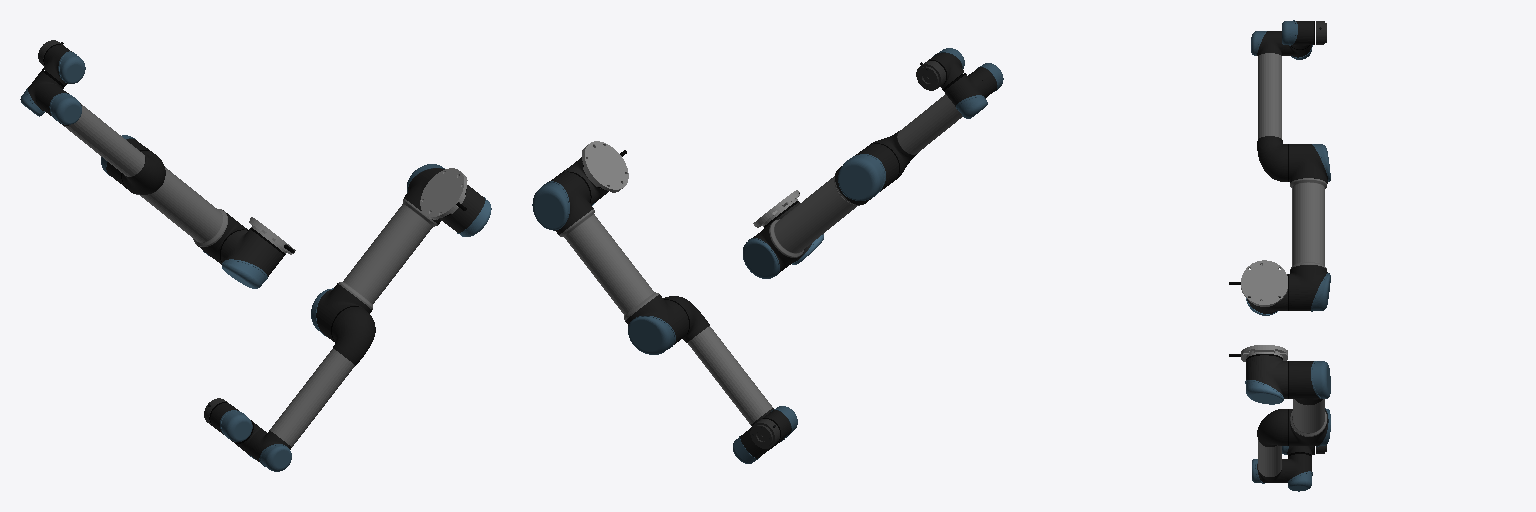
The robot description file, URDF, robot "madar":
<?xml version="1.0"?>
<robot name="madar">

    <!-- BEGIN: T-STRUCTURE -->
    <link name="madar_base_link">
        <visual>
            <geometry>
                <mesh filename="/meshes/estructura_asm.dae"/>
            </geometry>
        </visual>
        <collision>
            <origin xyz="0 0 0.375" rpy="0 0 0"/>
            <geometry>
                <cylinder radius="0.4" length="0.75"/>
            </geometry>
        </collision>
        <collision>
            <origin xyz="0 0 1.395" rpy="0 0 0"/>
            <geometry>
                <box size="0.5 0.08 0.05"/>
            </geometry>
        </collision>
        <collision>
            <origin xyz="0 0 1.056" rpy="0 0 0"/>
            <geometry>
                <box size="0.08 0.08 0.63"/>
            </geometry>
        </collision>
        <collision>
            <origin xyz="0 -0.14 0.916" rpy="0 0 0" />
            <geometry>
                <box size="0.43 0.2 0.33"/>
            </geometry>
        </collision>
    </link>
    <!-- END: T-STRUCTURE -->

    <!-- END: WHEELS -->
    <joint name="motor_1" type="continuous">
      <parent link="madar_base_link"/>
      <child link="wheel_1_link"/>
      <axis xyz="-1 0 0"/>
      <origin rpy="2.0944 0 1.5708" xyz="0 -0.2905 0.1"/>
    </joint>
  
    <link name="wheel_1_link">
      <visual>
        <geometry>
            <mesh filename="/meshes/wheel.dae"/>
        </geometry>
      </visual>
      <collision>
        <geometry>
          <sphere radius="0.10"/>
        </geometry>
      </collision>
      <inertial>
         <mass value="10"/>
         <inertia ixx="0.04" ixy="0" ixz="0" iyy="0.04" iyz="0" izz="0.04"/> <!-- Provisional inertia values -->
       </inertial>
    </link>
  
    <joint name="motor_2" type="continuous">
      <parent link="madar_base_link"/>
      <child link="wheel_2_link"/>
      <axis xyz="-1 0 0"/>
      <origin rpy="0 0 3.66519" xyz="0.25158 0.14525 0.1"/>
    </joint>
  
    <link name="wheel_2_link">
      <visual>
        <geometry>
            <mesh filename="/meshes/wheel.dae"/>
        </geometry>
      </visual>
      <collision>
        <geometry>
          <sphere radius="0.10"/>
        </geometry>
      </collision>
      <inertial>
         <mass value="10"/>
         <inertia ixx="0.04" ixy="0" ixz="0" iyy="0.04" iyz="0" izz="0.04"/>
       </inertial>
    </link>
  
    <joint name="motor_3" type="continuous">
      <parent link="madar_base_link"/>
      <child link="wheel_3_link"/>
      <axis xyz="-1 0 0"/>
      <origin rpy="0 0 5.75959" xyz="-0.25158 0.14525 0.1"/>
    </joint>
  
    <link name="wheel_3_link">
      <visual>
        <geometry>
            <mesh filename="/meshes/wheel.dae"/>
        </geometry>
      </visual>
      <collision>
        <geometry>
          <sphere radius="0.10"/>
        </geometry>
      </collision>
      <inertial>
         <mass value="10"/>
         <inertia ixx="0.04" ixy="0" ixz="0" iyy="0.04" iyz="0" izz="0.04"/>
       </inertial>
    </link>
  
    <!-- END: WHEELS -->

    <!-- BEGIN: ARM RIGHT -->

    <joint name="right_base_link" type="fixed">
        <parent link="madar_base_link"/>
        <child link="right_base_link"/>
        <origin xyz="0.256 0.0 1.389" rpy="3.142 -0.7874 0.000"/>
    </joint>

    <link name="right_base_link">
        <visual>
            <origin xyz="0 0 0" rpy="0 0 3.14159"/>
            <geometry>
                <mesh filename="../UR5/visual/base.dae"/>
            </geometry>
        </visual>
        <collision>
            <origin xyz="0 0 0" rpy="0 0 3.14159"/>
            <geometry>
                <mesh filename="../UR5/collision/base.stl"/>
            </geometry>
        </collision>
        <inertial>
            <mass value="4.0000"/>
            <inertia ixx="0.00443333156" ixy="0" ixz="0" iyy="0.00443333156" iyz="0" izz="0.0072"/>
        </inertial>
    </link>
    
    <joint name="right_shoulder_pan_joint" type="revolute">
        <parent link="right_base_link"/>
        <child link="right_shoulder_link"/>
        <origin xyz="0 0 0.089159" rpy="0 0 0"/>
        <axis xyz="0 0 1"/>
        <limit effort="150" lower="-6.2831853" upper="6.2831853" velocity="3.14159"/>
    </joint>
    
    <link name="right_shoulder_link">
        <visual>
            <origin xyz="0 0 0" rpy="0 0 3.14159"/>
            <geometry>
                <mesh filename="../UR5/visual/shoulder.dae"/>
            </geometry>
        </visual>
        <collision>
            <origin xyz="0 0 0" rpy="0 0 3.14159"/>
            <geometry>
                <mesh filename="../UR5/collision/shoulder.stl"/>
            </geometry>
        </collision>
        <inertial>
            <mass value="3.7000"/>
            <inertia ixx="0.010267495893" ixy="0" ixz="0" iyy="0.010267495893" iyz="0" izz="0.00666"/>
        </inertial>
    </link>
    
    <joint name="right_shoulder_lift_joint" type="revolute">
        <parent link="right_shoulder_link"/>
        <child link="right_upper_arm_link"/>
        <origin xyz="0 0 0" rpy="1.570796327 0 0"/>
        <axis xyz="0 0 1"/>
        <limit effort="150" lower="-6.2831853" upper="6.2831853" velocity="3.14159"/>
    </joint>
    
    <link name="right_upper_arm_link">
        <visual>
            <origin xyz="0 0 0.13585" rpy="1.57079 0 -1.57079"/>
            <geometry>
                <mesh filename="../UR5/visual/upperarm.dae"/>
            </geometry>
        </visual>
        <collision>
            <origin xyz="0 0 0.13585" rpy="1.57079 0 -1.57079"/>
            <geometry>
                <mesh filename="../UR5/collision/upperarm.stl"/>
            </geometry>
        </collision>
        <inertial>
          <mass value="8.3930"/>
          <origin xyz="0 0 0.28"/>
          <inertia ixx="0.22689067591" ixy="0" ixz="0" iyy="0.22689067591" iyz="0" izz="0.0151074"/>
        </inertial>
    </link>
    
    <joint name="right_elbow_joint" type="revolute">
        <parent link="right_upper_arm_link"/>
        <child link="right_fore_arm_link"/>
        <origin xyz="-0.425 0 0" rpy="0 0 0"/>
        <axis xyz="0 0 1"/>
        <limit effort="150" lower="-6.2831853" upper="6.2831853" velocity="3.14159"/>
        <!-- <limit effort="150" lower="-3.14159" upper="3.14159" velocity="3.14159"/> -->
    </joint>
    
    <link name="right_fore_arm_link">
        <visual>
            <origin xyz="0 0 0.0165" rpy="1.57079 0 -1.57079"/>
            <geometry>
                <mesh filename="../UR5/visual/forearm.dae"/>
            </geometry>
        </visual>
        <collision>
            <origin xyz="0 0 0.0165" rpy="1.57079 0 -1.57079"/>
            <geometry>
                <mesh filename="../UR5/collision/forearm.stl"/>
            </geometry>
        </collision>
        <inertial>
            <mass value="2.3300"/>
            <origin xyz="0 0 0.25"/>
            <inertia ixx="0.049443313556" ixy="0" ixz="0" iyy="0.049443313556" iyz="0" izz="0.004095"/>
        </inertial>
    </link>
    
    <joint name="right_wrist_1_joint" type="revolute">
        <parent link="right_fore_arm_link"/>
        <child link="right_wrist_1_link"/>
        <origin xyz="-0.39225 0 0.10915" rpy="0 0 0"/>
        <axis xyz="0 0 1"/>
        <limit effort="28" lower="-6.2831853" upper="6.2831853" velocity="3.14159"/>
      </joint>
    
    <link name="right_wrist_1_link">
        <visual>
            <origin xyz="0 0 -0.093" rpy="1.57079 0 0"/>
            <geometry>
                <mesh filename="../UR5/visual/wrist1.dae"/>
            </geometry>
        </visual>
        <collision>
            <origin xyz="0 0 -0.093" rpy="1.57079 0 0"/>
            <geometry>
                <mesh filename="../UR5/collision/wrist1.stl"/>
            </geometry>
        </collision>
        <inertial>
            <mass value="1.2190"/>
            <inertia ixx="0.111172755531" ixy="0" ixz="0" iyy="0.111172755531" iyz="0" izz="0.21942"/>
        </inertial>
    </link>
    
    <joint name="right_wrist_2_joint" type="revolute">
        <parent link="right_wrist_1_link"/>
        <child link="right_wrist_2_link"/>
        <origin xyz="0 -0.09465 -1.941303950897609e-11" rpy="1.570796327 0 0"/>
        <axis xyz="0 0 1"/>
        <limit effort="28" lower="-6.2831853" upper="6.2831853" velocity="3.14159"/>
    </joint>
    
    <link name="right_wrist_2_link">
        <visual>
            <origin xyz="0 0 -0.095" rpy="0 0 0"/>
            <geometry>
                <mesh filename="../UR5/visual/wrist2.dae"/>
            </geometry>
        </visual>
        <collision>
            <origin xyz="0 0 -0.095" rpy="0 0 0"/>
            <geometry>
                <mesh filename="../UR5/collision/wrist2.stl"/>
            </geometry>
        </collision>
        <inertial>
            <mass value="1.2190"/>
            <inertia ixx="0.111172755531" ixy="0" ixz="0" iyy="0.111172755531" iyz="0" izz="0.21942"/>
        </inertial>
    </link>
    
    <joint name="right_wrist_3_joint" type="revolute">
        <parent link="right_wrist_2_link"/>
        <child link="right_wrist_3_link"/>
        <origin xyz="0 0.0823 -1.688001216681175e-11" rpy="1.570796326589793 3.141592653589793 3.141592653589793"/>
        <axis xyz="0 0 1"/>
        <limit effort="28" lower="-6.2831853" upper="6.2831853" velocity="3.14159"/>
    </joint>
    
    <link name="right_wrist_3_link">
        <visual>
            <origin xyz="0 0 -0.0818" rpy="1.57079 0 0"/>
            <geometry>
                <mesh filename="../UR5/visual/wrist3.dae"/>
            </geometry>
        </visual>
        <collision>
            <origin xyz="0 0 -0.0818" rpy="1.57079 0 0"/>
            <geometry>
                <mesh filename="../UR5/collision/wrist3.stl"/>
            </geometry>
        </collision>
        <inertial>
            <mass value="0.1879"/>
            <inertia ixx="0.0171364731454" ixy="0" ixz="0" iyy="0.0171364731454" iyz="0" izz="0.033822"/>
        </inertial>
    </link>

    <!-- END: ARM RIGHT -->

    <!-- BEGIN: ARM LEFT -->

    <joint name="left_base_link" type="fixed">
        <parent link="madar_base_link"/>
        <child link="left_base_link"/>
        <origin xyz="-0.256 0.0 1.389" rpy="-3.142 0.7874 0.000"/>
    </joint>

    <link name="left_base_link">
        <visual>
            <origin xyz="0 0 0" rpy="0 0 3.14159"/>
            <geometry>
                <mesh filename="../UR5/visual/base.dae"/>
            </geometry>
        </visual>
        <collision>
            <origin xyz="0 0 0" rpy="0 0 3.14159"/>
            <geometry>
                <mesh filename="../UR5/collision/base.stl"/>
            </geometry>
        </collision>
        <inertial>
            <mass value="4.0000"/>
            <inertia ixx="0.00443333156" ixy="0" ixz="0" iyy="0.00443333156" iyz="0" izz="0.0072"/>
        </inertial>
    </link>
    
    <joint name="left_shoulder_pan_joint" type="revolute">
        <parent link="left_base_link"/>
        <child link="left_shoulder_link"/>
        <origin xyz="0 0 0.089159" rpy="0 0 0"/>
        <axis xyz="0 0 1"/>
        <limit effort="150" lower="-6.2831853" upper="6.2831853" velocity="3.14159"/>
    </joint>
    
    <link name="left_shoulder_link">
        <visual>
            <origin xyz="0 0 0" rpy="0 0 3.14159"/>
            <geometry>
                <mesh filename="../UR5/visual/shoulder.dae"/>
            </geometry>
        </visual>
        <collision>
            <origin xyz="0 0 0" rpy="0 0 3.14159"/>
            <geometry>
                <mesh filename="../UR5/collision/shoulder.stl"/>
            </geometry>
        </collision>
        <inertial>
            <mass value="3.7000"/>
            <inertia ixx="0.010267495893" ixy="0" ixz="0" iyy="0.010267495893" iyz="0" izz="0.00666"/>
        </inertial>
    </link>
    
    <joint name="left_shoulder_lift_joint" type="revolute">
        <parent link="left_shoulder_link"/>
        <child link="left_upper_arm_link"/>
        <origin xyz="0 0 0" rpy="1.570796327 0 0"/>
        <axis xyz="0 0 1"/>
        <limit effort="150" lower="-6.2831853" upper="6.2831853" velocity="3.14159"/>
    </joint>
    
    <link name="left_upper_arm_link">
        <visual>
            <origin xyz="0 0 0.13585" rpy="1.57079 0 -1.57079"/>
            <geometry>
                <mesh filename="../UR5/visual/upperarm.dae"/>
            </geometry>
        </visual>
        <collision>
            <origin xyz="0 0 0.13585" rpy="1.57079 0 -1.57079"/>
            <geometry>
                <mesh filename="../UR5/collision/upperarm.stl"/>
            </geometry>
        </collision>
        <inertial>
          <mass value="8.3930"/>
          <origin xyz="0 0 0.28"/>
          <inertia ixx="0.22689067591" ixy="0" ixz="0" iyy="0.22689067591" iyz="0" izz="0.0151074"/>
        </inertial>
    </link>
    
    <joint name="left_elbow_joint" type="revolute">
        <parent link="left_upper_arm_link"/>
        <child link="left_fore_arm_link"/>
        <origin xyz="-0.425 0 0" rpy="0 0 0"/>
        <axis xyz="0 0 1"/>
        <limit effort="150" lower="-6.2831853" upper="6.2831853" velocity="3.14159"/>
    </joint>
    
    <link name="left_fore_arm_link">
        <visual>
            <origin xyz="0 0 0.0165" rpy="1.57079 0 -1.57079"/>
            <geometry>
                <mesh filename="../UR5/visual/forearm.dae"/>
            </geometry>
        </visual>
        <collision>
            <origin xyz="0 0 0.0165" rpy="1.57079 0 -1.57079"/>
            <geometry>
                <mesh filename="../UR5/collision/forearm.stl"/>
            </geometry>
        </collision>
        <inertial>
            <mass value="2.3300"/>
            <origin xyz="0 0 0.25"/>
            <inertia ixx="0.049443313556" ixy="0" ixz="0" iyy="0.049443313556" iyz="0" izz="0.004095"/>
        </inertial>
    </link>
    
    <joint name="left_wrist_1_joint" type="revolute">
        <parent link="left_fore_arm_link"/>
        <child link="left_wrist_1_link"/>
        <origin xyz="-0.39225 0 0.10915" rpy="0 0 0"/>
        <axis xyz="0 0 1"/>
        <limit effort="28" lower="-6.2831853" upper="6.2831853" velocity="3.14159"/>
      </joint>
    
    <link name="left_wrist_1_link">
        <visual>
            <origin xyz="0 0 -0.093" rpy="1.57079 0 0"/>
            <geometry>
                <mesh filename="../UR5/visual/wrist1.dae"/>
            </geometry>
        </visual>
        <collision>
            <origin xyz="0 0 -0.093" rpy="1.57079 0 0"/>
            <geometry>
                <mesh filename="../UR5/collision/wrist1.stl"/>
            </geometry>
        </collision>
        <inertial>
            <mass value="1.2190"/>
            <inertia ixx="0.111172755531" ixy="0" ixz="0" iyy="0.111172755531" iyz="0" izz="0.21942"/>
        </inertial>
    </link>
    
    <joint name="left_wrist_2_joint" type="revolute">
        <parent link="left_wrist_1_link"/>
        <child link="left_wrist_2_link"/>
        <origin xyz="0 -0.09465 -1.941303950897609e-11" rpy="1.570796327 0 0"/>
        <axis xyz="0 0 1"/>
        <limit effort="28" lower="-6.2831853" upper="6.2831853" velocity="3.14159"/>
    </joint>
    
    <link name="left_wrist_2_link">
        <visual>
            <origin xyz="0 0 -0.095" rpy="0 0 0"/>
            <geometry>
                <mesh filename="../UR5/visual/wrist2.dae"/>
            </geometry>
        </visual>
        <collision>
            <origin xyz="0 0 -0.095" rpy="0 0 0"/>
            <geometry>
                <mesh filename="../UR5/collision/wrist2.stl"/>
            </geometry>
        </collision>
        <inertial>
            <mass value="1.2190"/>
            <inertia ixx="0.111172755531" ixy="0" ixz="0" iyy="0.111172755531" iyz="0" izz="0.21942"/>
        </inertial>
    </link>
    
    <joint name="left_wrist_3_joint" type="revolute">
        <parent link="left_wrist_2_link"/>
        <child link="left_wrist_3_link"/>
        <origin xyz="0 0.0823 -1.688001216681175e-11" rpy="1.570796326589793 3.141592653589793 3.141592653589793"/>
        <axis xyz="0 0 1"/>
        <limit effort="28" lower="-6.2831853" upper="6.2831853" velocity="3.14159"/>
    </joint>
    
    <link name="left_wrist_3_link">
        <visual>
            <origin xyz="0 0 -0.0818" rpy="1.57079 0 0"/>
            <geometry>
                <mesh filename="../UR5/visual/wrist3.dae"/>
            </geometry>
        </visual>
        <collision>
            <origin xyz="0 0 -0.0818" rpy="1.57079 0 0"/>
            <geometry>
                <mesh filename="../UR5/collision/wrist3.stl"/>
            </geometry>
        </collision>
        <inertial>
            <mass value="0.1879"/>
            <inertia ixx="0.0171364731454" ixy="0" ixz="0" iyy="0.0171364731454" iyz="0" izz="0.033822"/>
        </inertial>
    </link>

    <!-- END: ARM LEFT -->

    <!-- BEGIN: HAND RIGHT -->

    <!-- END: HAND RIGHT -->

    <!-- BEGIN: HAND LEFT -->

    <!-- END: HAND LEFT -->	

</robot>

--- What the picture shows (computed from the rendered views, not written in the file) ---
The picture shows the robot from 3 angles, left to right: view 1: azimuth 30°, elevation 25°; view 2: azimuth 150°, elevation 25°; view 3: azimuth 270°, elevation 25°; orthographic projection.
Robot: madar — 18 links, 17 joints (12 revolute, 3 continuous, 2 fixed); root link madar_base_link; default pose: every joint at zero.
Links seen in each view (by area): view 1: right_upper_arm_link, right_fore_arm_link, left_fore_arm_link, left_upper_arm_link, left_shoulder_link, right_base_link, right_shoulder_link, left_wrist_2_link, right_wrist_2_link, left_wrist_1_link; view 2: right_upper_arm_link, left_upper_arm_link, right_fore_arm_link, left_fore_arm_link, right_base_link, left_wrist_1_link, left_wrist_2_link, left_wrist_3_link, right_wrist_3_link, right_wrist_1_link, right_wrist_2_link; view 3: left_upper_arm_link, left_fore_arm_link, right_upper_arm_link, right_fore_arm_link, right_shoulder_link, left_base_link, right_wrist_1_link, left_wrist_2_link.
Boxes of the visible links, <box> form: right_upper_arm_link: <box>311,164,444,342</box>; right_fore_arm_link: <box>249,307,375,471</box>; left_fore_arm_link: <box>39,85,165,194</box>; left_upper_arm_link: <box>101,135,248,264</box>; left_shoulder_link: <box>221,228,285,288</box>; right_base_link: <box>420,168,467,219</box>; right_shoulder_link: <box>439,185,491,236</box>; left_wrist_2_link: <box>43,44,85,85</box>; right_wrist_2_link: <box>209,402,252,442</box>; left_wrist_1_link: <box>20,69,64,116</box>; right_upper_arm_link: <box>532,172,689,354</box>; left_upper_arm_link: <box>743,143,899,278</box>; right_fore_arm_link: <box>663,296,789,448</box>; left_fore_arm_link: <box>870,63,1003,179</box>; right_base_link: <box>582,141,628,192</box>; left_wrist_1_link: <box>943,73,987,118</box>; left_wrist_2_link: <box>928,48,964,89</box>; left_wrist_3_link: <box>916,61,945,90</box>; right_wrist_3_link: <box>750,419,779,448</box>; right_wrist_1_link: <box>733,427,774,463</box>; right_wrist_2_link: <box>762,406,797,444</box>; left_upper_arm_link: <box>1288,144,1330,311</box>; left_fore_arm_link: <box>1251,31,1287,181</box>; right_upper_arm_link: <box>1288,361,1330,446</box>; right_fore_arm_link: <box>1252,409,1287,483</box>; right_shoulder_link: <box>1245,354,1287,404</box>; left_base_link: <box>1229,260,1287,306</box>; right_wrist_1_link: <box>1285,452,1312,491</box>; left_wrist_2_link: <box>1282,20,1314,48</box>.
Size in the robot's own frame: 1.36 by 0.3144 by 1.32 metres.
14 mesh visuals loaded from 7 distinct referenced files (7 Collada DAE); not drawn: 4 (reference in a form the renderer does not follow; not among the files counted above).
